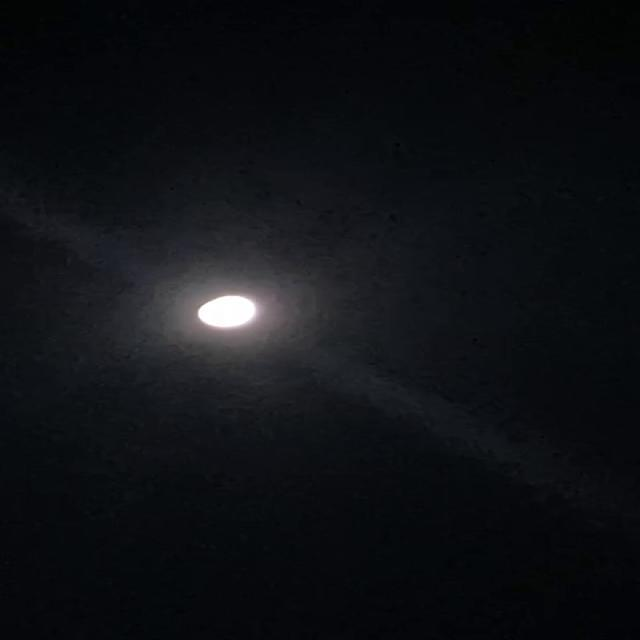moon: (192, 290, 270, 334)
